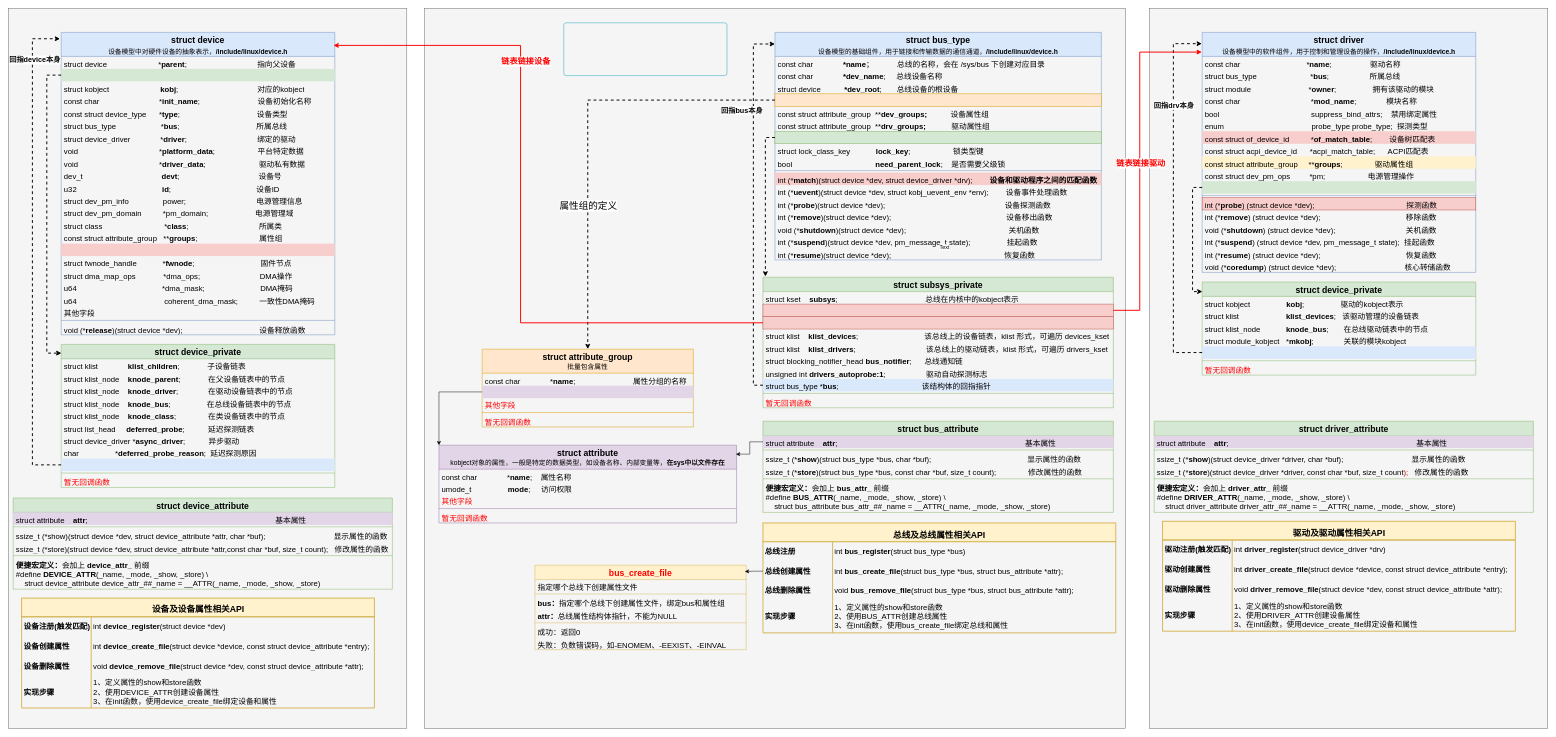
This 1556x737 diagram has some shape labels left out. The centre of each missing label's shape, as x and y in pixels:
"const struct attribute_group ** bus_groups; 总线属性组" belongs at (x=937, y=99).
"struct attribute ** attrs ; 属性数组" belongs at (x=587, y=391).
"struct device * device ; 回指设备结构体" belongs at (x=198, y=464).
"struct device_driver * driver ; 回指驱动结构体" belongs at (x=1339, y=352).
"struct device_node * of_node ; 设备树节点" belongs at (x=198, y=249).
"struct device_private * p ; 设备私有数据" belongs at (x=198, y=75).
"struct driver_private *p; 驱动私有数据" belongs at (x=1339, y=187).
"struct kset * devices_kset ; 该总线的device kset" belongs at (x=937, y=322).
"struct kset * drivers_kset ; 该总线的driver kset" belongs at (x=937, y=310).
"struct subsys_private * p; 私有数据" belongs at (x=937, y=137).
"🌻Make By Dakkk" belongs at (x=645, y=49).
